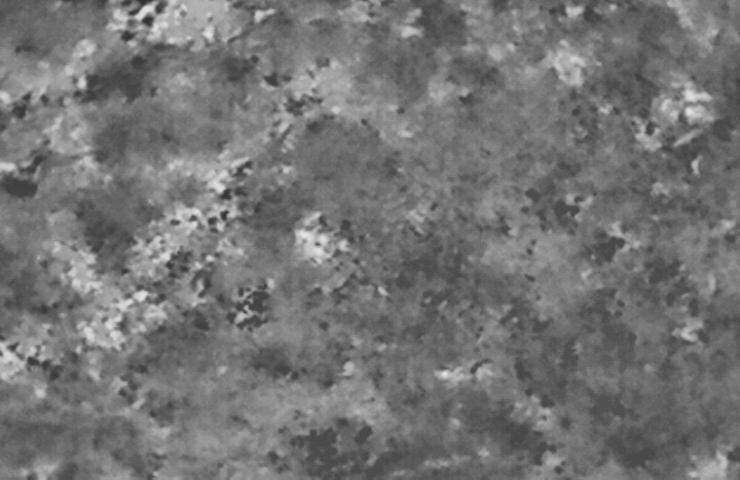landmines: (296, 224, 343, 264)
